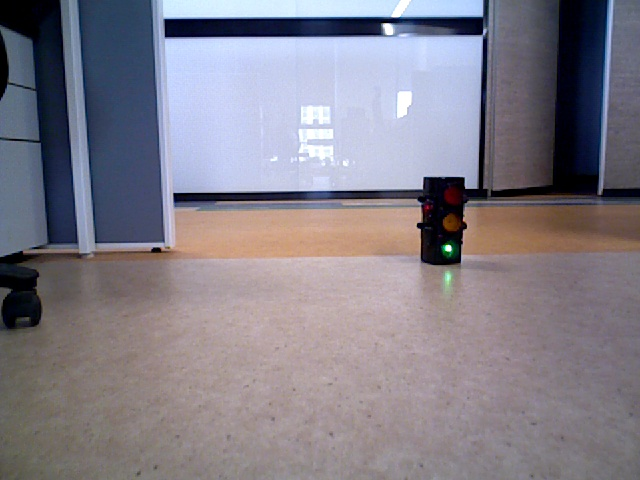green: (424, 176, 460, 262)
